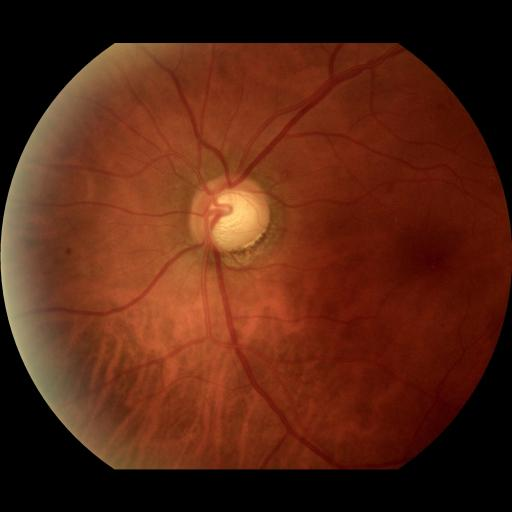Optic Cup: (209, 191, 259, 246)
Optic Disc: (190, 172, 270, 250)
